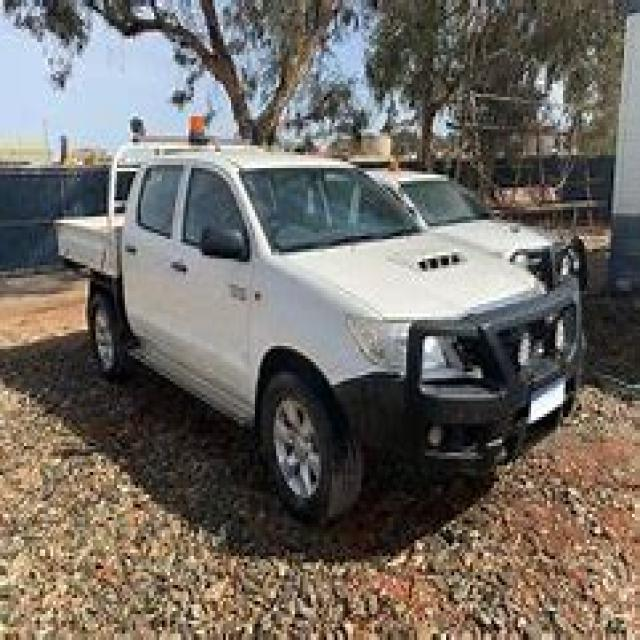light_vehicle: (48, 123, 605, 511)
